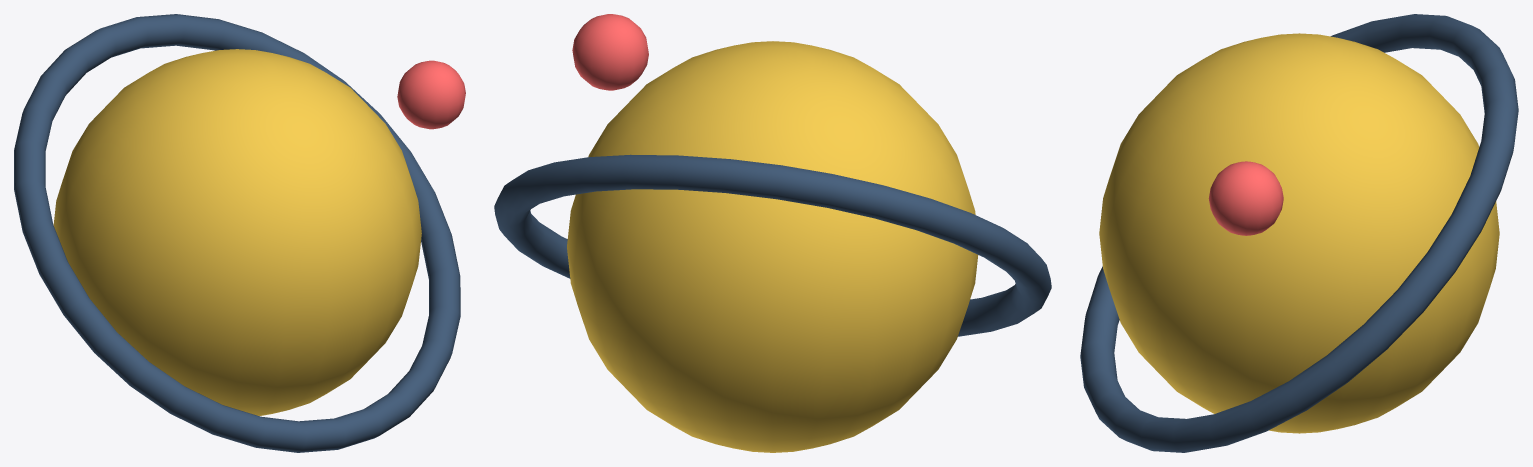
The model's file is quark.glb.
3 views of the same model, side by side, from view 1: azimuth 30°, elevation 25°; view 2: azimuth 150°, elevation 25°; view 3: azimuth 270°, elevation 25° (orthographic). The views are drawn at different scales.
Visible parts, largest first — view 1: quark_textured_mesh; view 2: quark_textured_mesh; view 3: quark_textured_mesh.
Part boxes in pixels (left/top/right/bottom): quark_textured_mesh: left=14, top=14, right=465, bottom=452; quark_textured_mesh: left=494, top=14, right=1051, bottom=452; quark_textured_mesh: left=1080, top=14, right=1518, bottom=452.
Bounding box in the file's own units: 1.72 × 1.28 × 1.4.
1 material, 1 textured.
